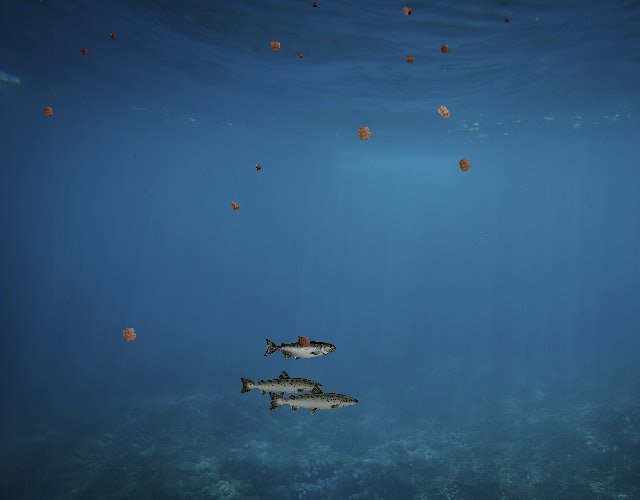Fish: (266, 383, 360, 417), (238, 369, 324, 400), (263, 336, 336, 362)
Pellet: (115, 321, 143, 349), (430, 99, 457, 126), (452, 152, 478, 178), (294, 331, 316, 353), (226, 197, 243, 215), (252, 161, 264, 173)
